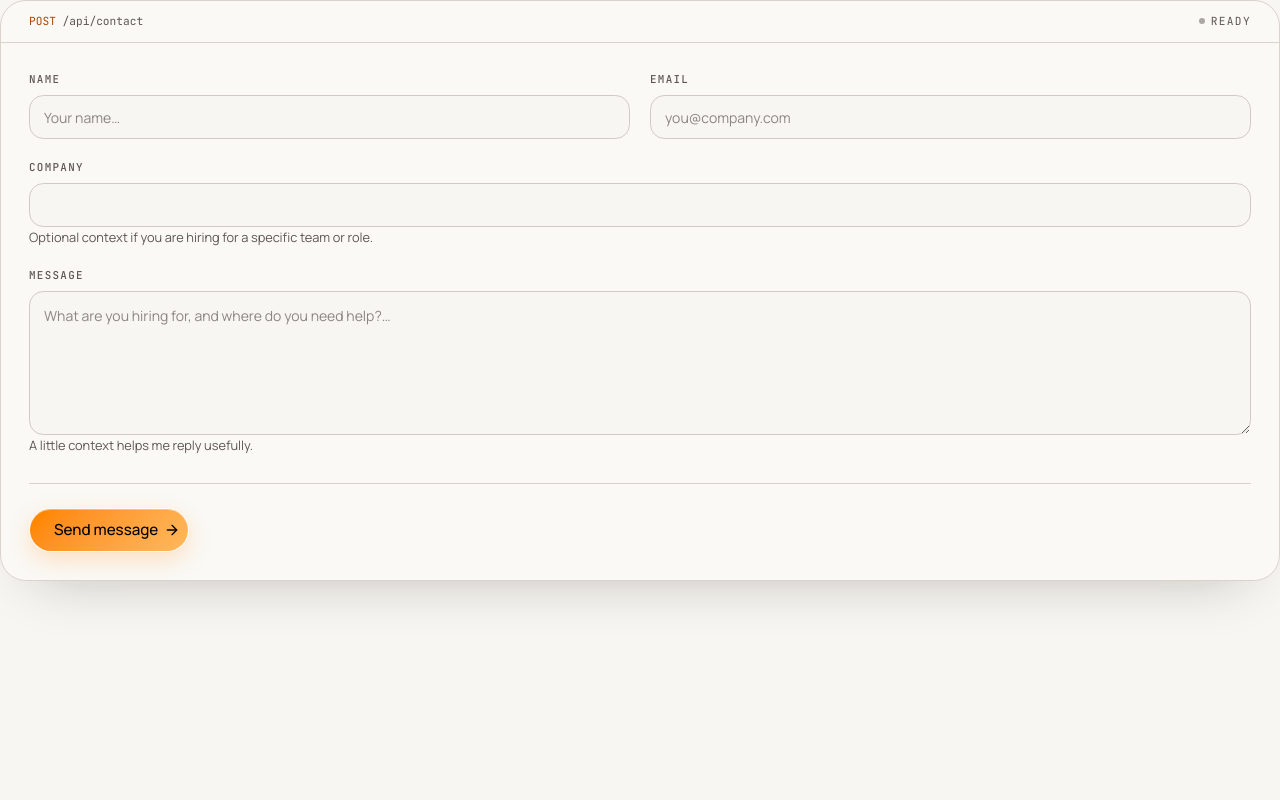
ContactForm › shows an inline error message when the request fails before a response arrives
In the field labelled "Name": (330, 117) [29, 95, 630, 139], type "James Cadena"
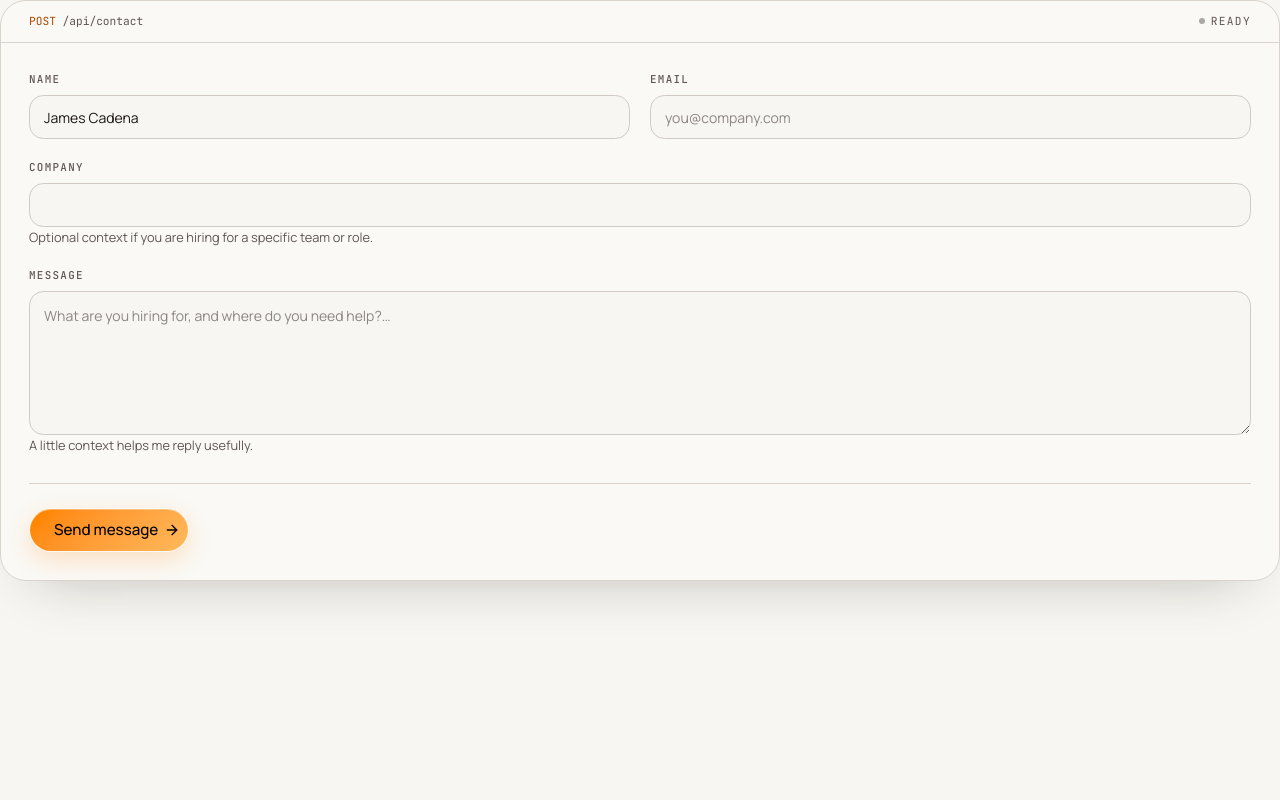
In the field labelled "Email": (950, 117) [650, 95, 1251, 139], type "james@example.com"
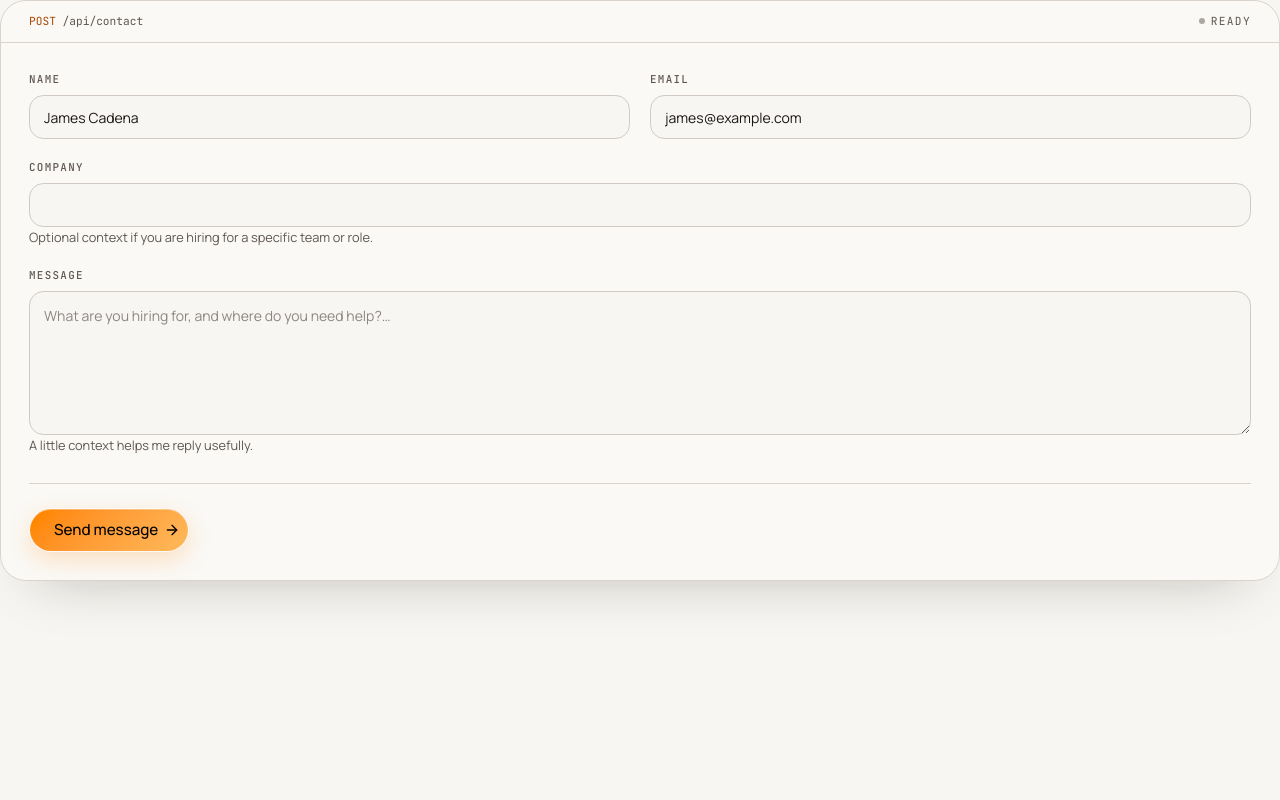
In the text box labelled "Message": (640, 363) [29, 291, 1251, 435], type "I would like to discuss a role focused on secure infrastructure."
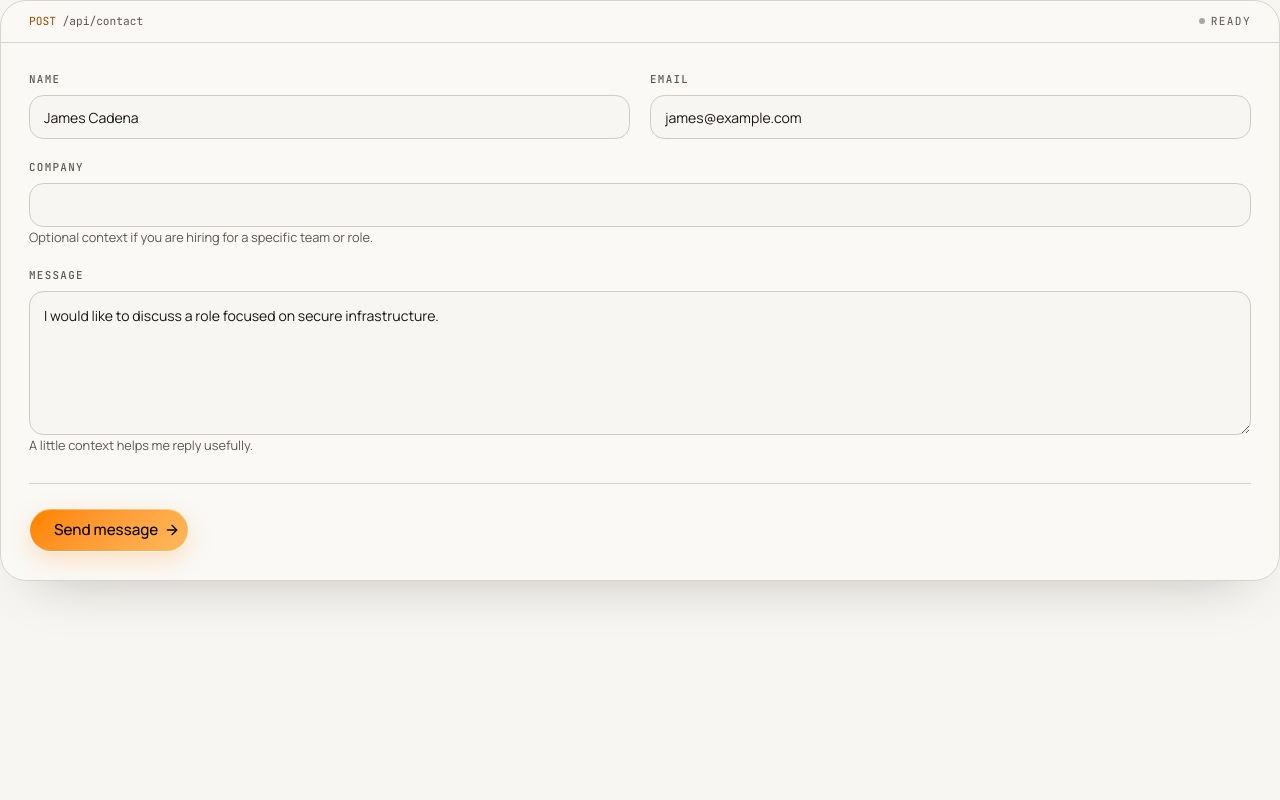
Click the button "Send message": (109, 530) [29, 508, 189, 552]
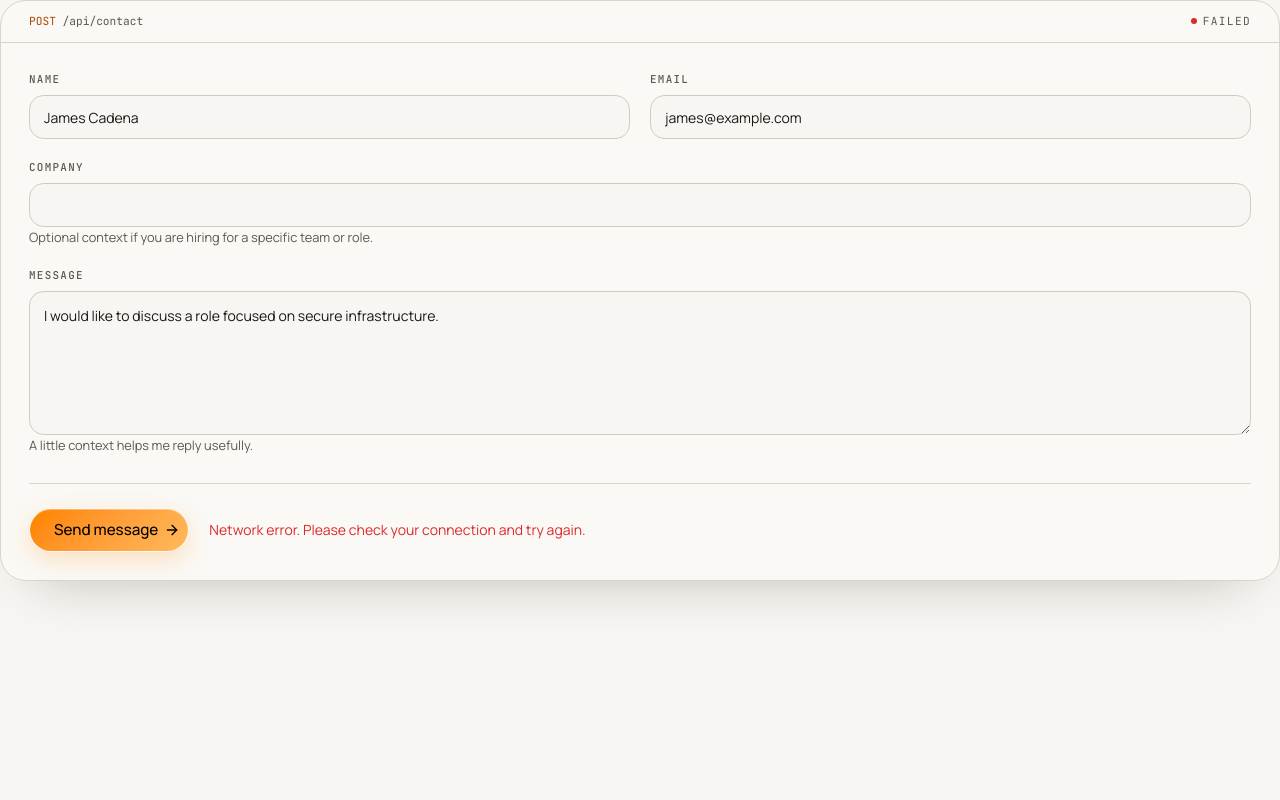
expect the message shows "Network error": met, box [209, 520, 586, 539]
